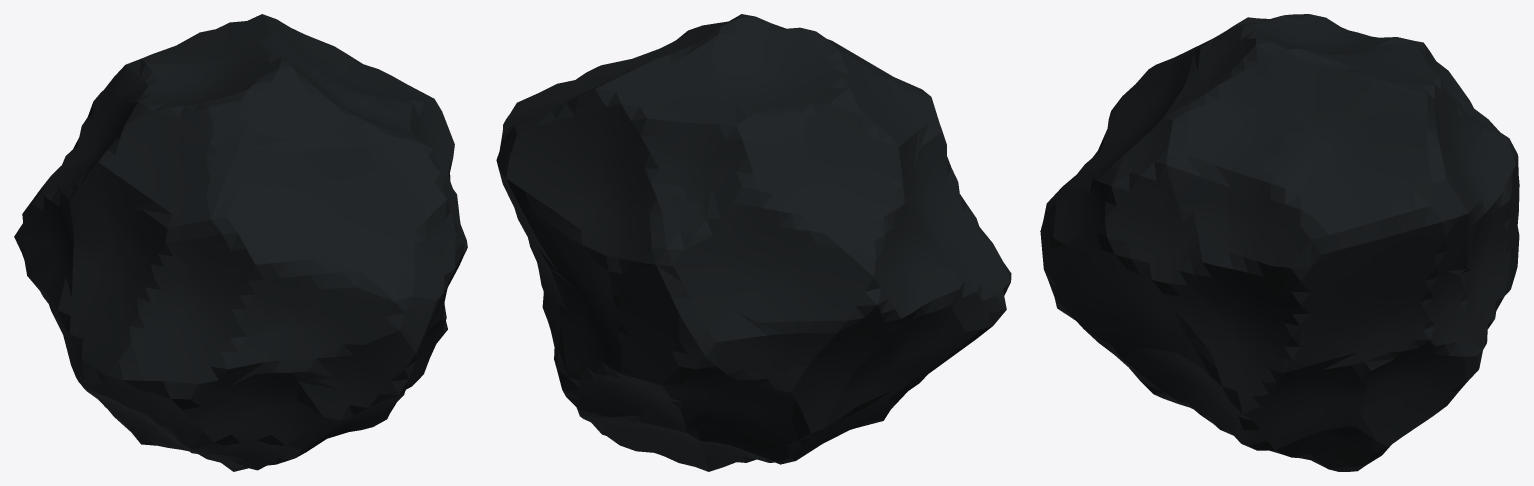
File: Asteroid_h_05.FBX
3 renders of one model, left to right at view 1: azimuth 30°, elevation 25°; view 2: azimuth 150°, elevation 25°; view 3: azimuth 270°, elevation 25°, orthographic. The views are drawn at different scales.
Parts seen in each view (by area): view 1: Asteroid_h_05; view 2: Asteroid_h_05; view 3: Asteroid_h_05.
Part boxes in pixels (x1,y1,x2,y2): Asteroid_h_05: (14,14,467,471); Asteroid_h_05: (496,14,1011,471); Asteroid_h_05: (1040,14,1519,471).
Bounding box in the file's own units: 2736 × 2590 × 2728.
